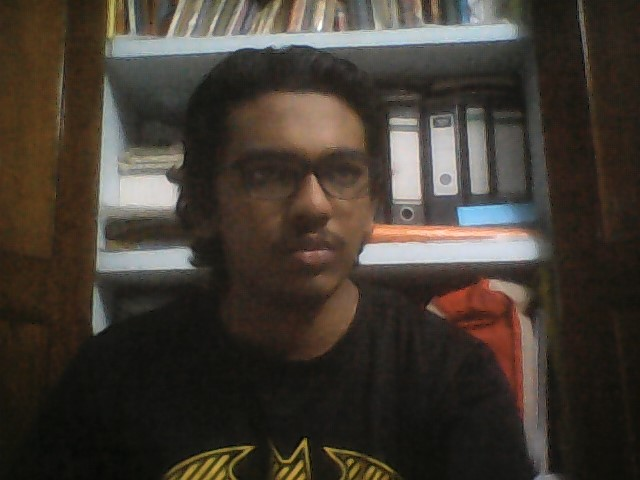person: (42, 43, 521, 474)
